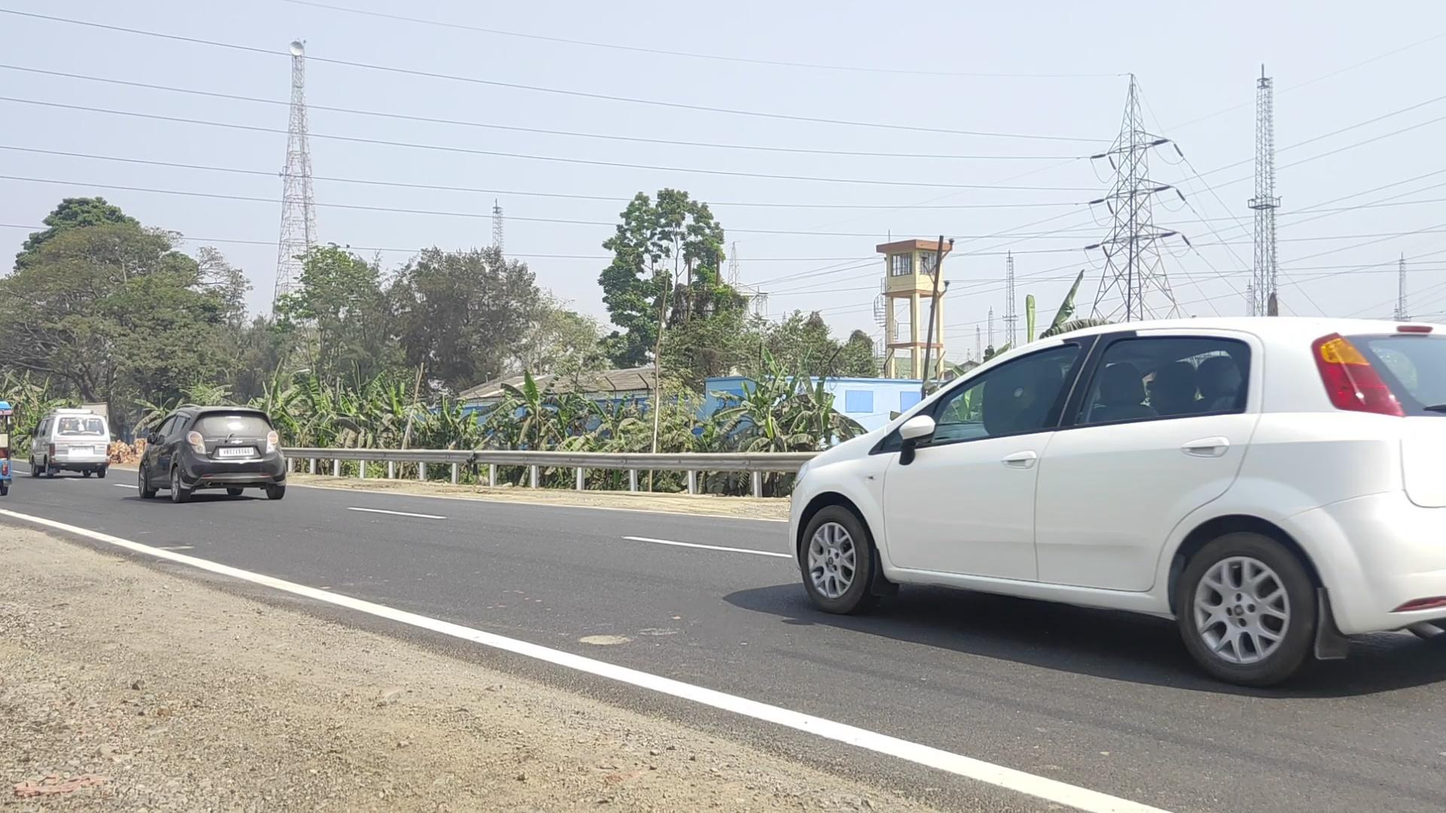car: (789, 317, 1446, 689), (138, 404, 287, 504)
van: (29, 409, 111, 480)
